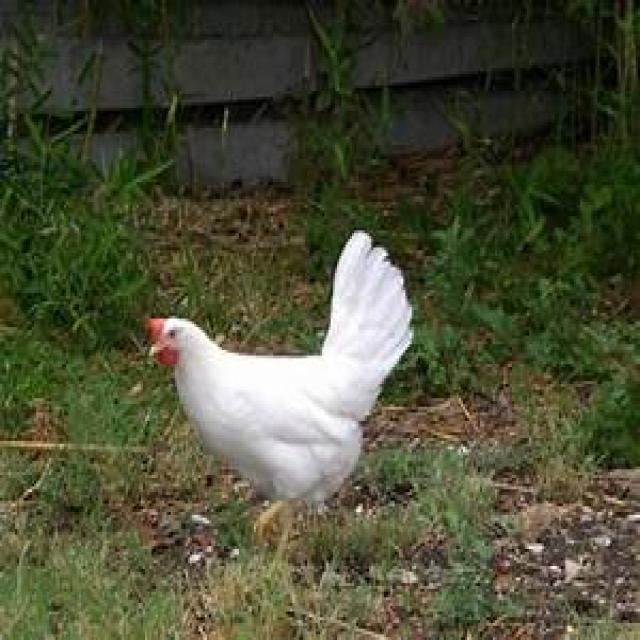hen: (145, 233, 414, 506)
